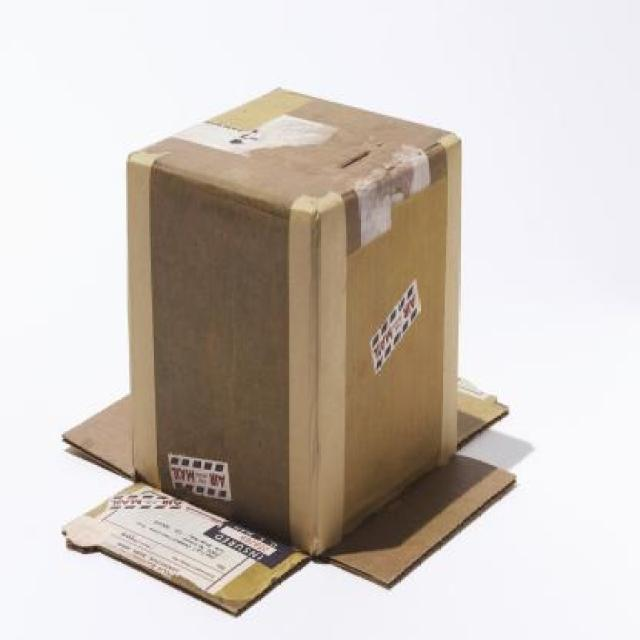box: (54, 80, 534, 618)
